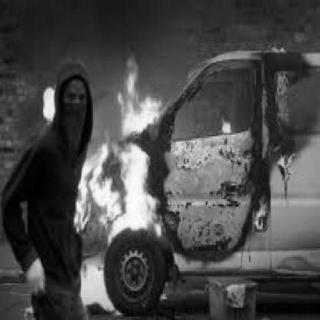Fire: (39, 36, 177, 308), (271, 140, 301, 188), (252, 179, 270, 237)
